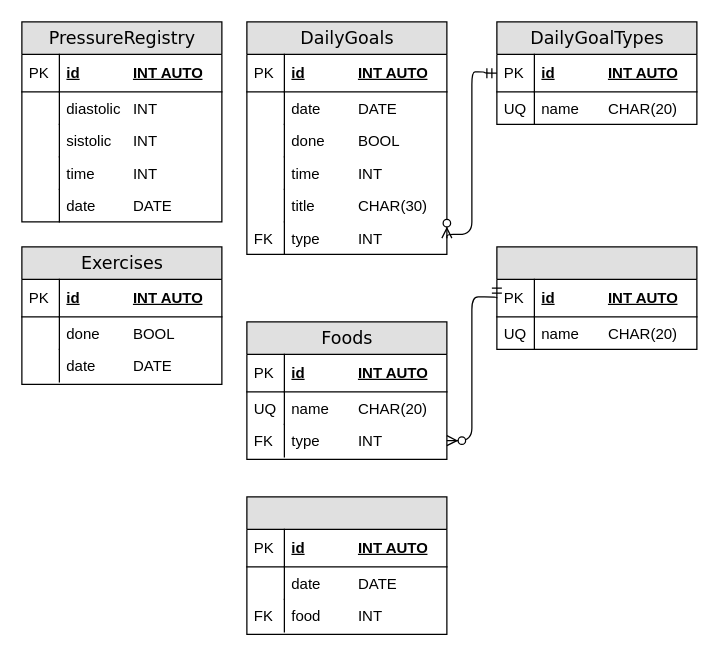
This 719x658 diagram has some shape labels left out. Each missing label, with the box of its shape:
Consumptions: (246, 496, 447, 634)
FoodTypes: (496, 246, 697, 349)
